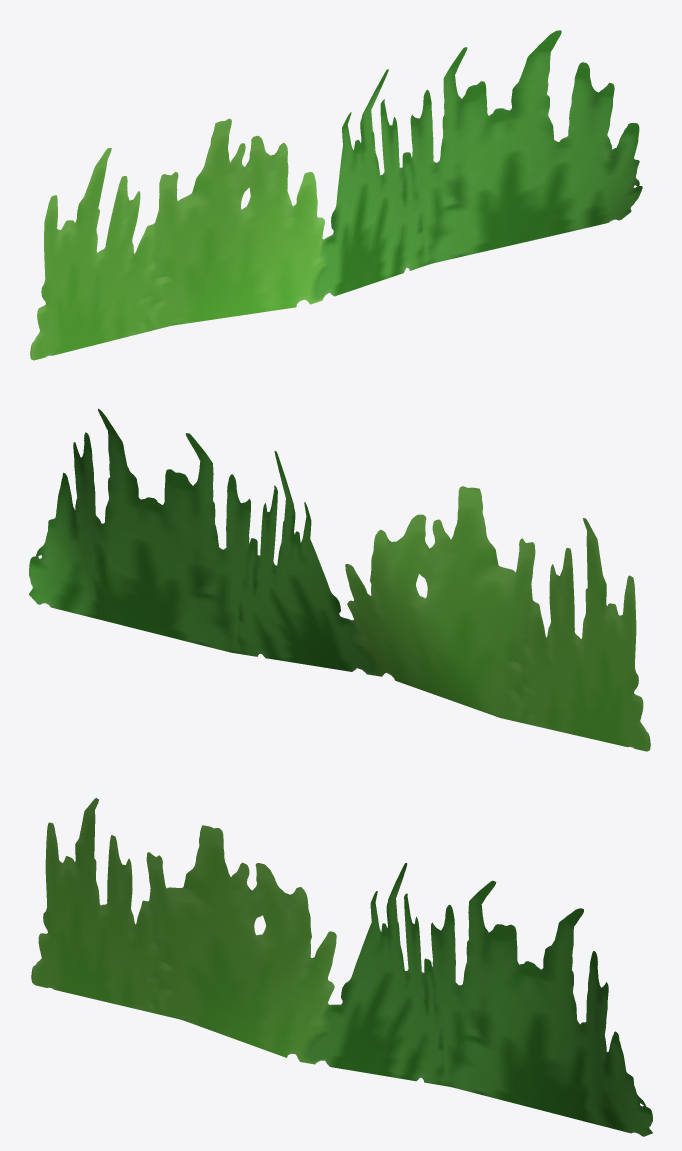
File: Grass_07.fbx
3 views of the same model, one above another, from view 1: azimuth 30°, elevation 25°; view 2: azimuth 150°, elevation 25°; view 3: azimuth 330°, elevation 25° (orthographic). The views are drawn at different scales.
Parts seen in each view (by area): view 1: Grass_07; view 2: Grass_07; view 3: Grass_07.
Part boxes in pixels (box(x1,y1,x2,y2)): Grass_07: box(30, 30, 642, 360); Grass_07: box(29, 408, 650, 751); Grass_07: box(31, 798, 652, 1136).
Bounding box in the file's own units: 149 × 14.22 × 48.94.
